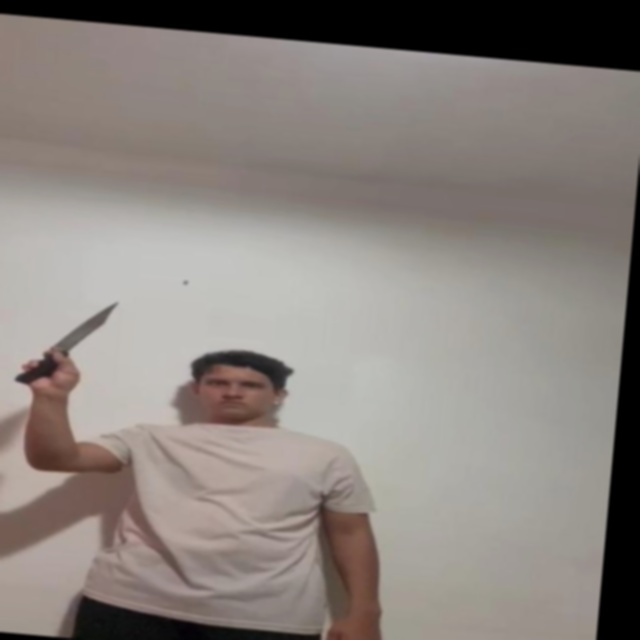Sharp-Object: (64, 298, 122, 349)
